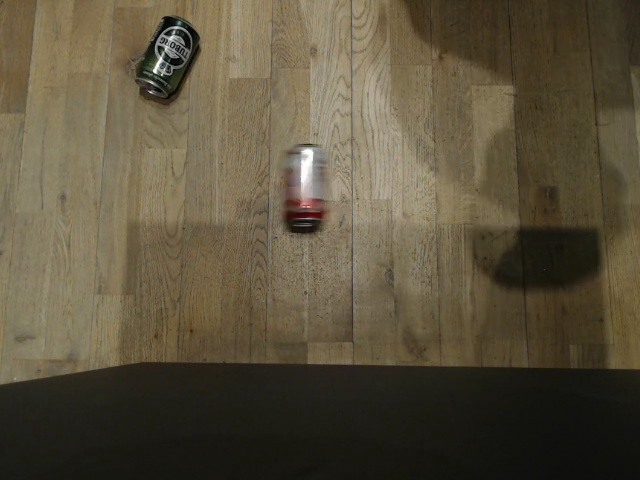beer: (131, 11, 202, 101)
cola: (282, 140, 329, 230)
